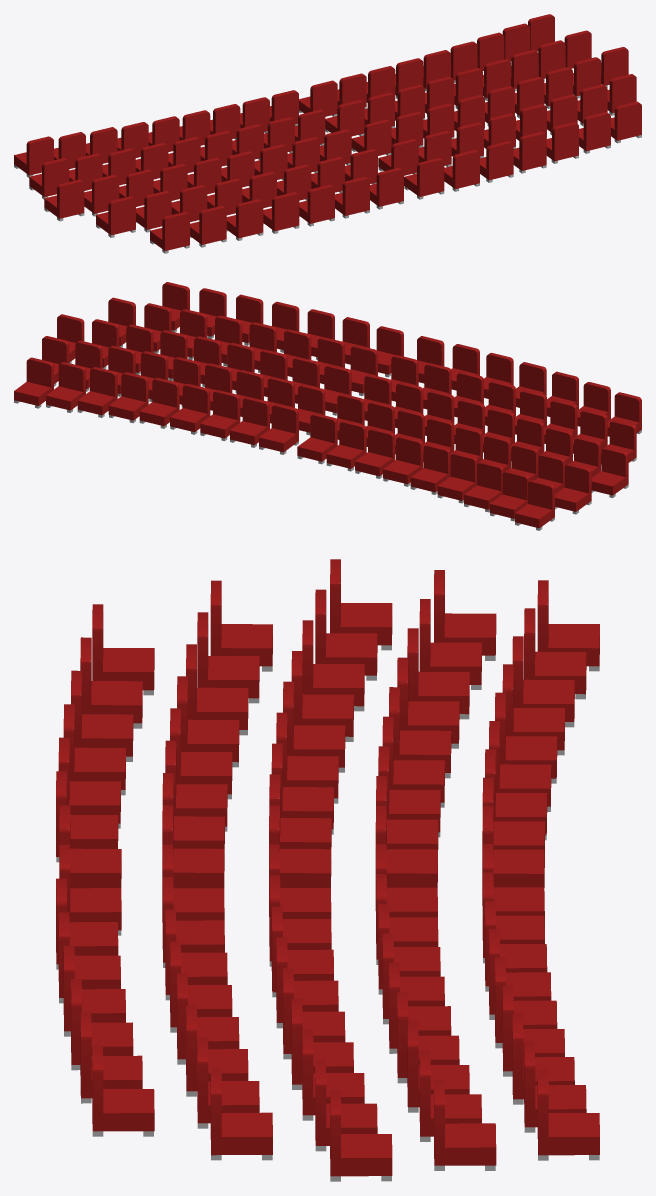
File: FBX_Chair.fbx
The picture shows the model from 3 angles, top to bottom: view 1: azimuth 30°, elevation 25°; view 2: azimuth 150°, elevation 25°; view 3: azimuth 270°, elevation 25°; orthographic projection. The views are drawn at different scales.
Parts seen in each view (by area): view 1: SEDIE; view 2: SEDIE; view 3: SEDIE.
Boxes of the visible parts, bbox=[...] form: SEDIE: bbox=[14, 14, 641, 253]; SEDIE: bbox=[14, 282, 641, 530]; SEDIE: bbox=[56, 559, 599, 1181].
Size of the model in its own units: 32 by 1.86 by 13.25.
Materials: 1 (1 with a texture image).
